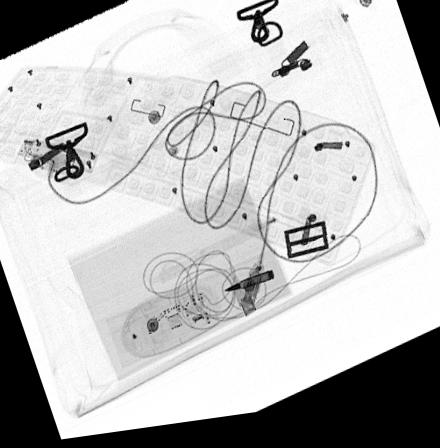Bullet: (223, 276, 275, 299)
